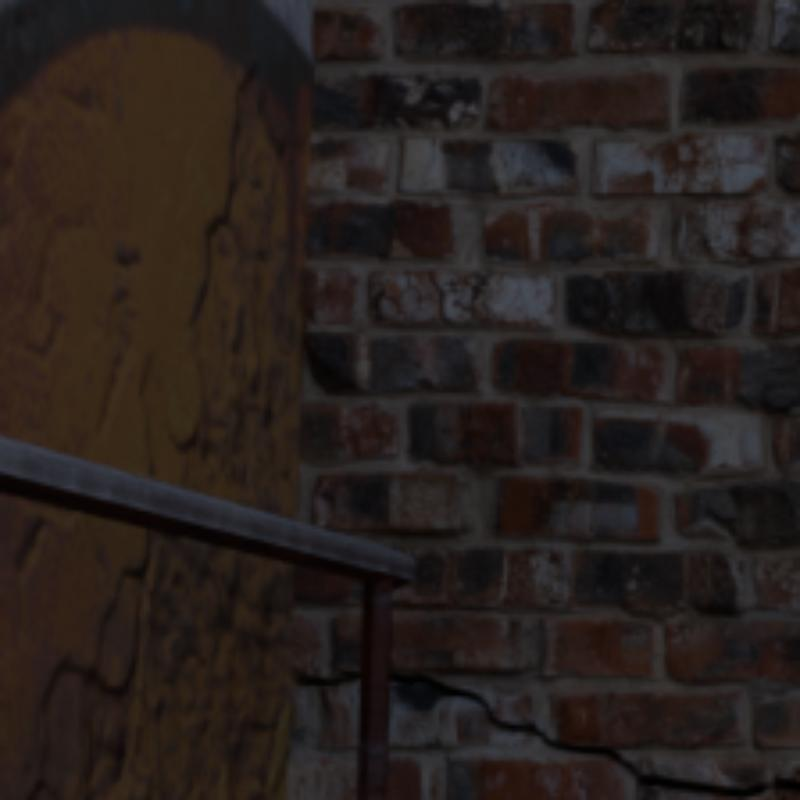pothole: (393, 675, 796, 793), (429, 271, 457, 329), (293, 671, 361, 686)
